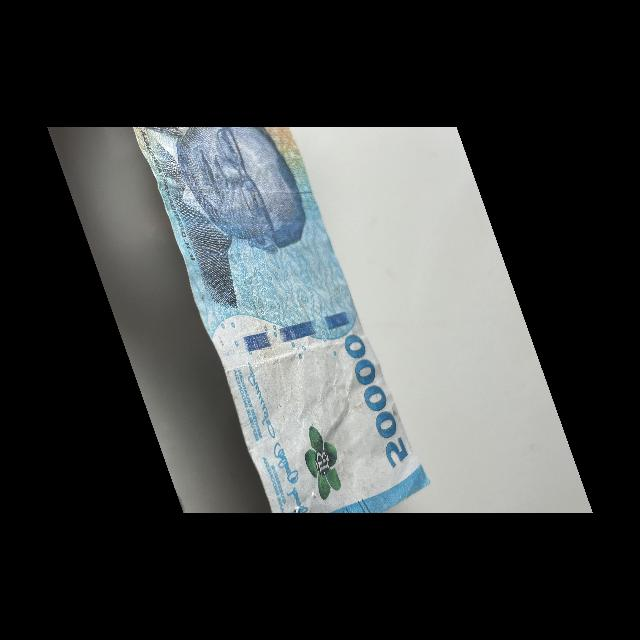Palsu-50k: (117, 71, 437, 552)
Tinta-Palsu-50k: (291, 418, 355, 504)
